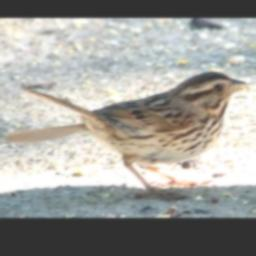Sparrow: (2, 69, 252, 202)
